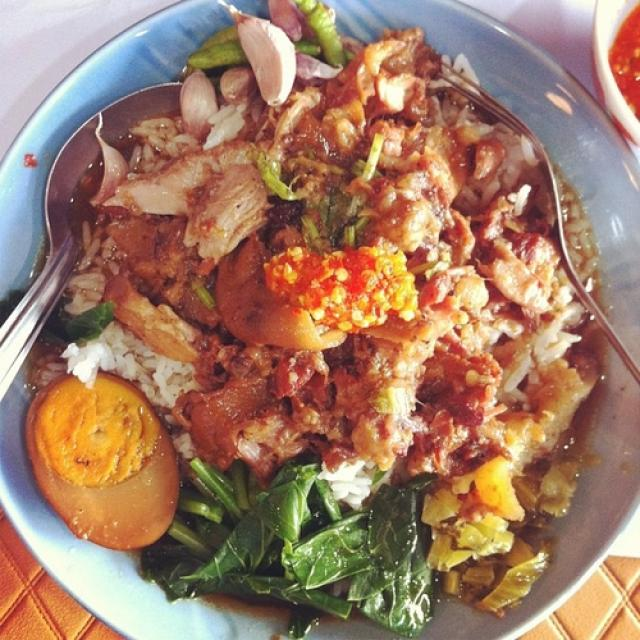猪肉菜式: (26, 32, 609, 602)
